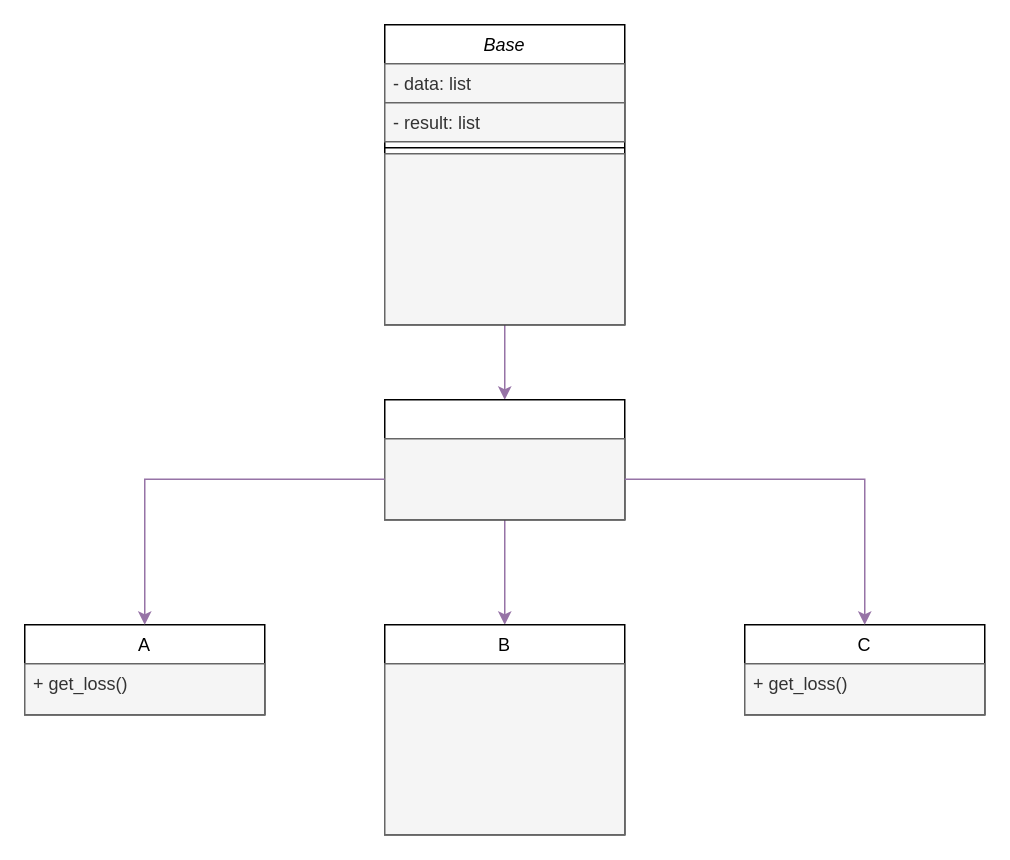
The diagram is 1010 pixels wide and 860 high, and some of its shapes have lost their labels. The box of each missing label's shape, as (x1, y1, x2, y2) in pixels:
+ __init__(data,result) + get_answer() + get_score() + get_loss(): (383, 152, 625, 325)
+ get_answer() + get_score(): (383, 437, 625, 520)
+ get_loss() +get_pre() +get_rec() + get_score(): (383, 662, 625, 835)
BaseExtended: (383, 398, 625, 520)
